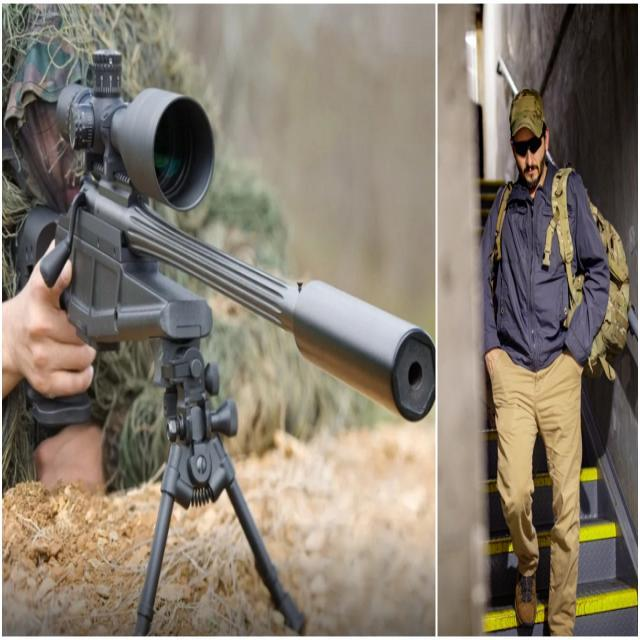scope: (57, 49, 216, 224)
sniper rifle: (20, 52, 437, 630)
